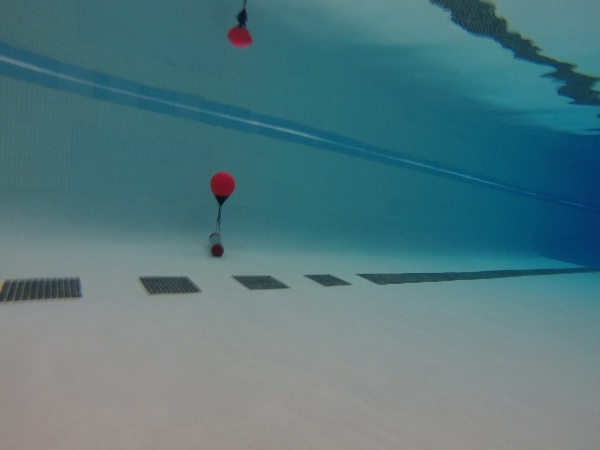buoy_red: (209, 170, 235, 205)
